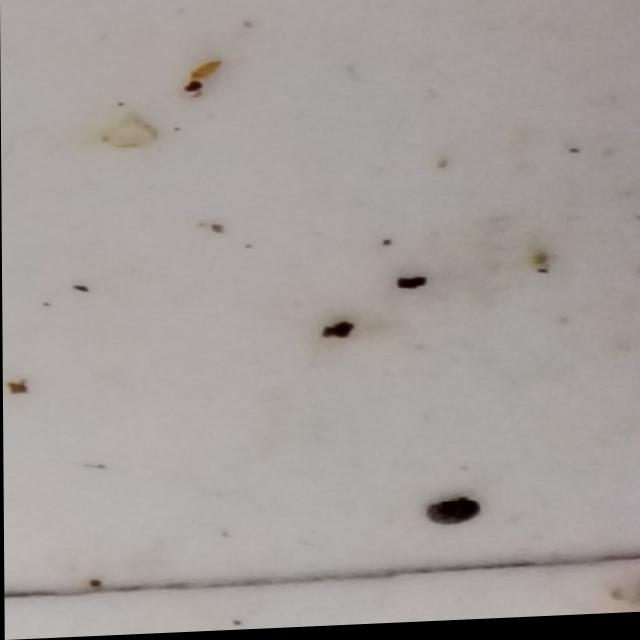varroa: (426, 504, 480, 534)
